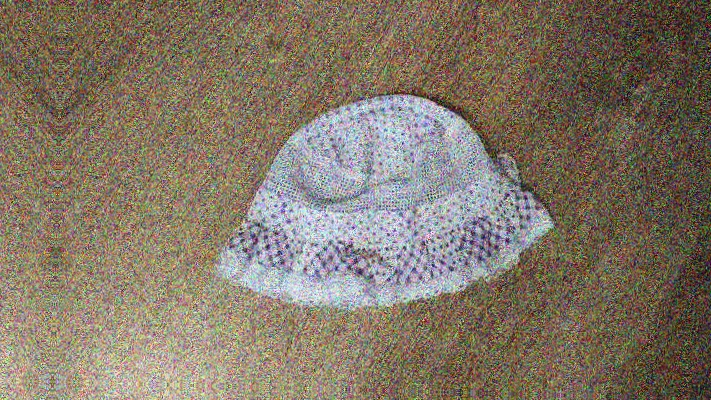Hat: (197, 69, 589, 336)
